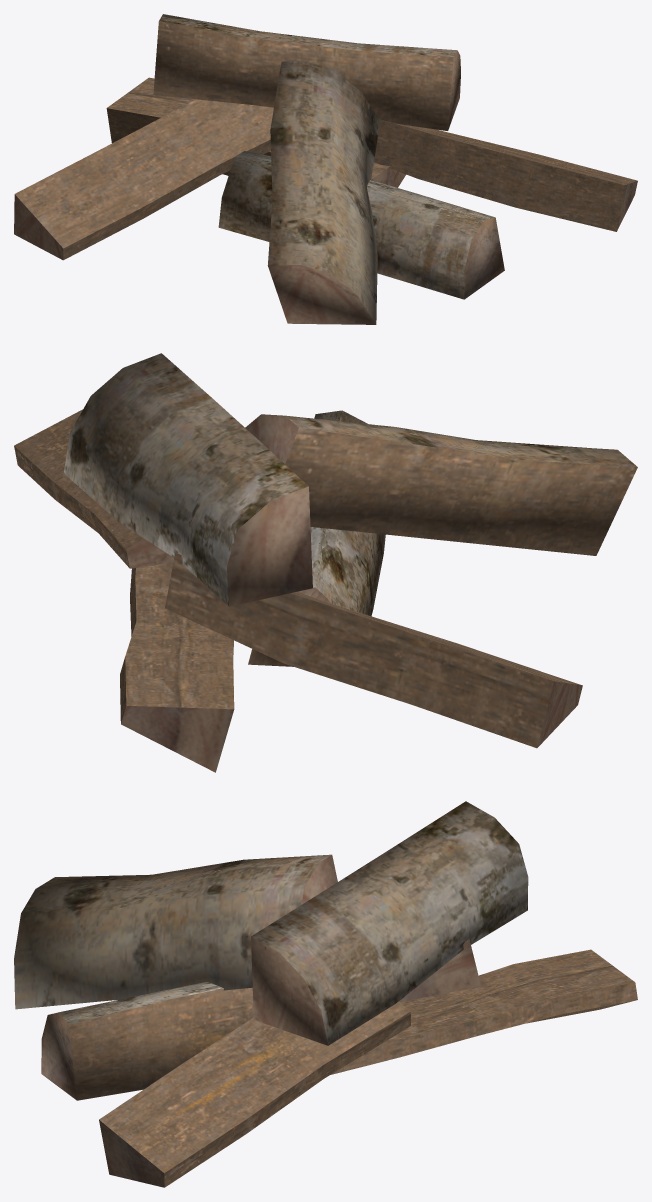
Rendered from firewood.glb.
3 views of the same model, one above another, from view 1: azimuth 30°, elevation 25°; view 2: azimuth 150°, elevation 25°; view 3: azimuth 270°, elevation 25° (orthographic). The views are drawn at different scales.
Visible parts, largest first — view 1: firewood06_Log_0; view 2: firewood06_Log_0; view 3: firewood06_Log_0.
Boxes of the visible parts, <box> form: firewood06_Log_0: <box>14,14,637,324</box>; firewood06_Log_0: <box>14,353,637,772</box>; firewood06_Log_0: <box>14,801,637,1187</box>.
Bounding box in the file's own units: 0.8041 × 0.267 × 0.7295.
Materials: 1 (1 with a texture image).
